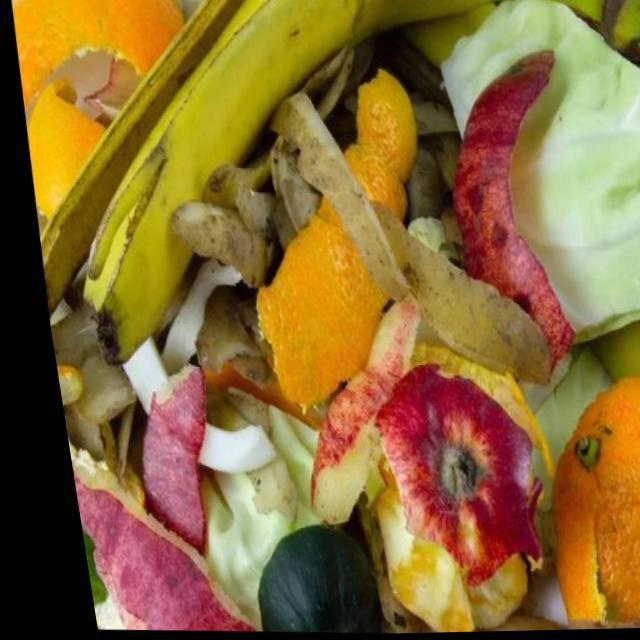Garbage: (11, 0, 640, 635), (12, 0, 640, 634)
